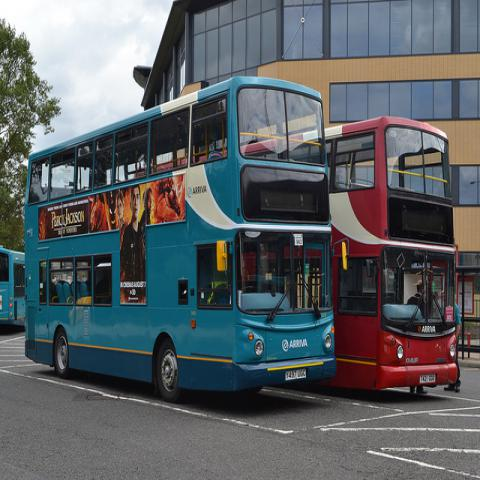bus: (26, 76, 334, 390), (306, 112, 460, 390), (0, 240, 27, 341)
